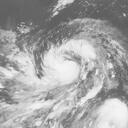cyclone: (14, 18, 118, 106)
